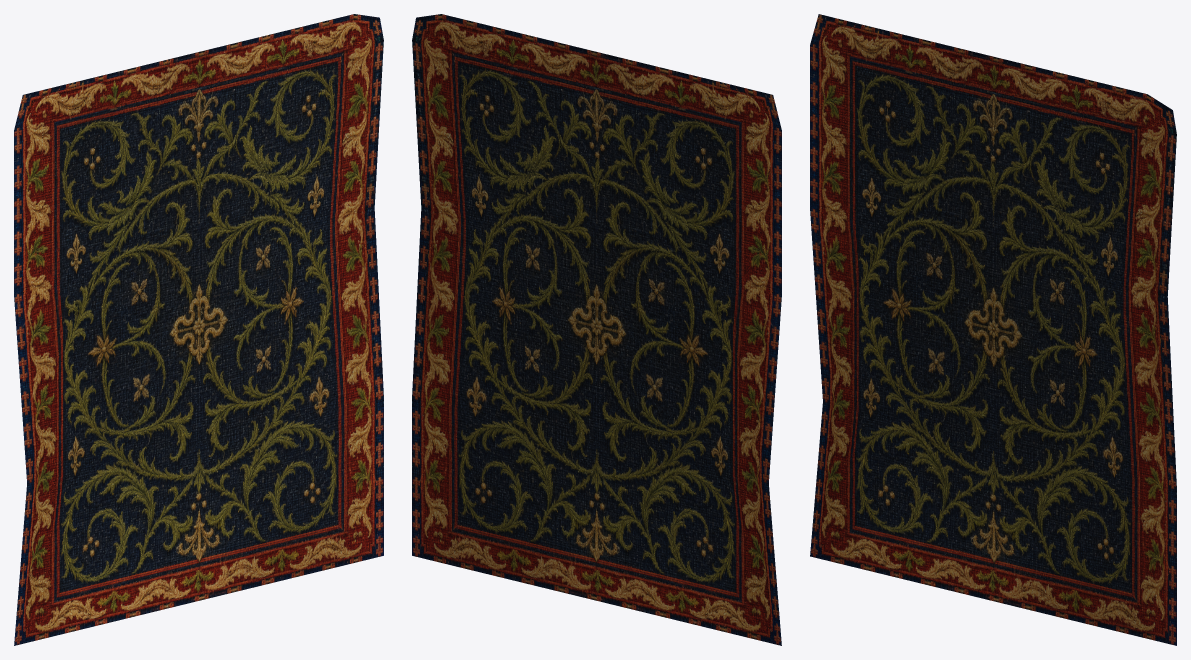
Rendered from mm9_deco_tapestry_redblack.glb.
3 renders of one model, left to right at view 1: azimuth 30°, elevation 25°; view 2: azimuth 150°, elevation 25°; view 3: azimuth 330°, elevation 25°, orthographic.
Parts seen in each view (by area): view 1: Tapestry_redblack; view 2: Tapestry_redblack; view 3: Tapestry_redblack.
Boxes of the visible parts, <box> form: Tapestry_redblack: <box>14,14,383,645</box>; Tapestry_redblack: <box>412,14,781,645</box>; Tapestry_redblack: <box>810,14,1176,645</box>.
Bounding box in the file's own units: 1.63 × 2.31 × 2.59e-07.
Materials: 1 (1 with a texture image).
